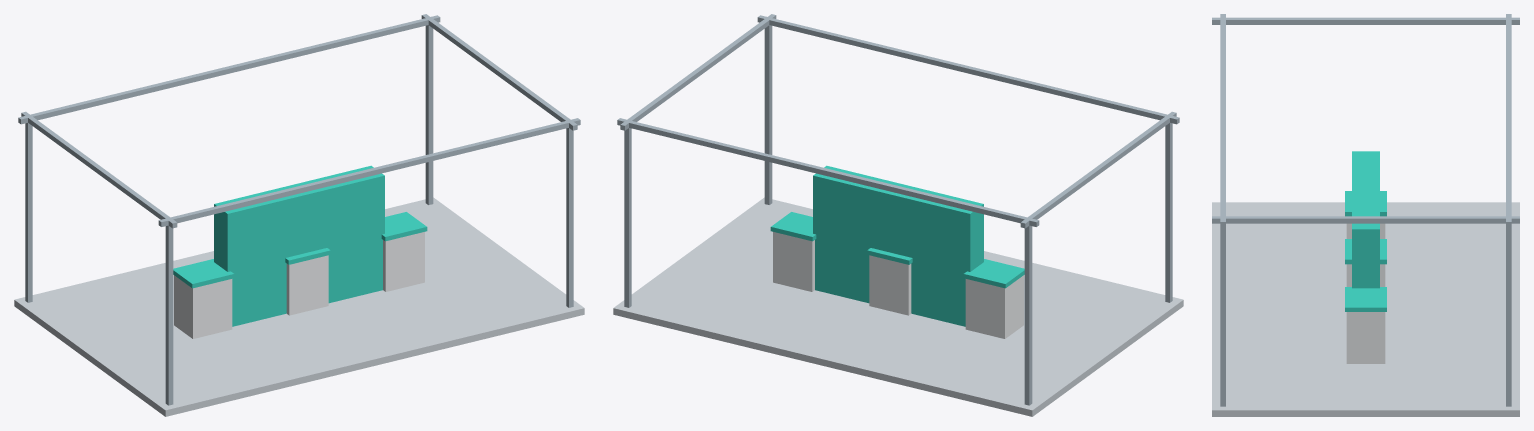
3 renders of one model, left to right at view 1: azimuth 30°, elevation 25°; view 2: azimuth 150°, elevation 25°; view 3: azimuth 270°, elevation 25°, orthographic.
Visible parts, largest first — view 1: Exhibition Booth Concept; view 2: Exhibition Booth Concept; view 3: Exhibition Booth Concept.
Part boxes in pixels (left/top/right/bottom): Exhibition Booth Concept: left=14, top=14, right=584, bottom=416; Exhibition Booth Concept: left=613, top=14, right=1183, bottom=416; Exhibition Booth Concept: left=1212, top=14, right=1519, bottom=416.
Bounding box in the file's own units: 8 × 3.49 × 5.
